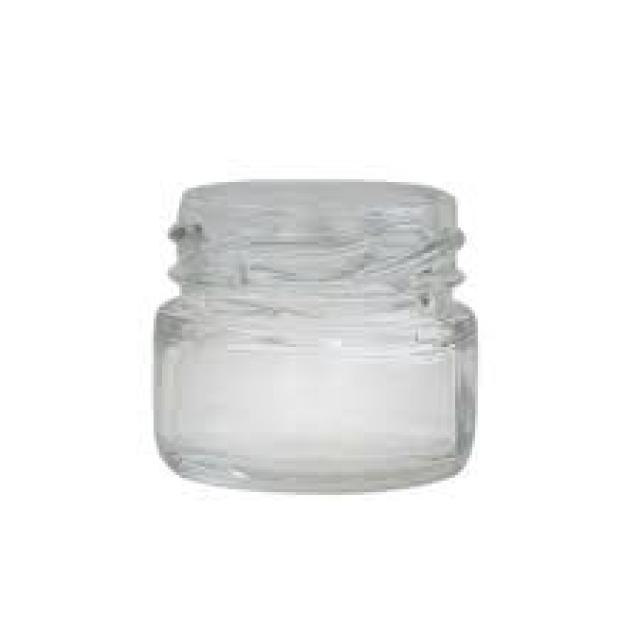Anorganik: (151, 179, 478, 489)
